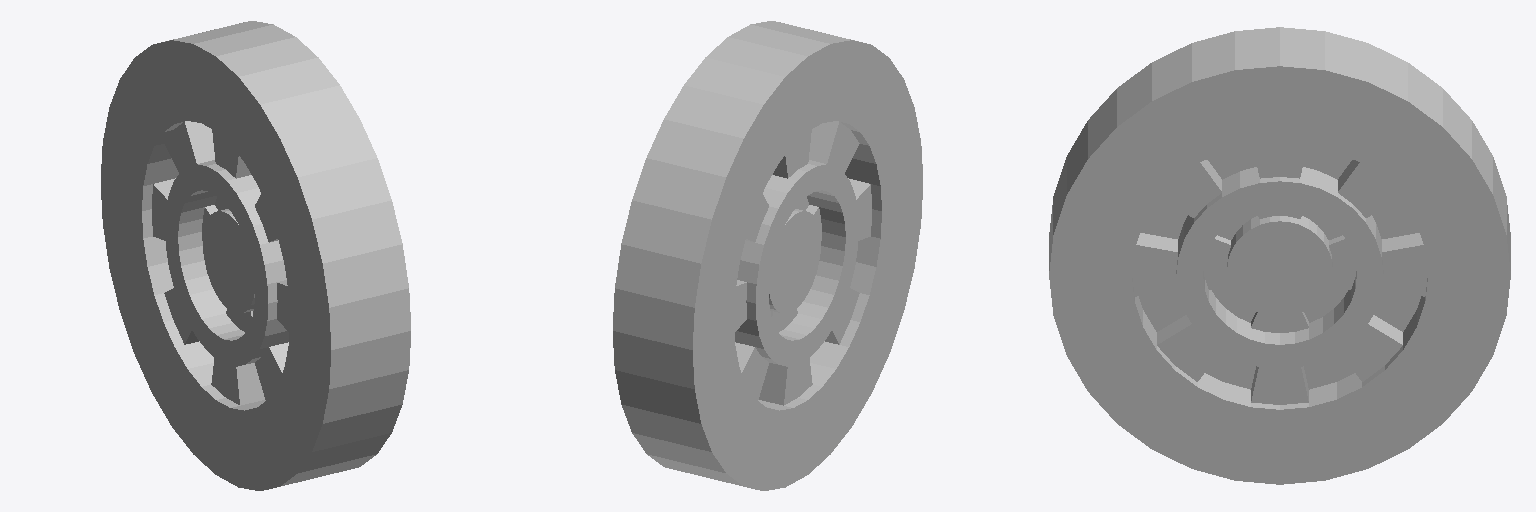
File: wheel.obj
3 views of the same model, side by side, from view 1: azimuth 30°, elevation 25°; view 2: azimuth 150°, elevation 25°; view 3: azimuth 270°, elevation 25° (orthographic).
Parts seen in each view (by area): view 1: Cylinder; view 2: Cylinder; view 3: Cylinder.
Part boxes in pixels (x1,y1,x2,y2): Cylinder: (101,21,410,490); Cylinder: (613,21,922,490); Cylinder: (1049,27,1510,484).
Bounding box in the file's own units: 0.4 × 2 × 2.